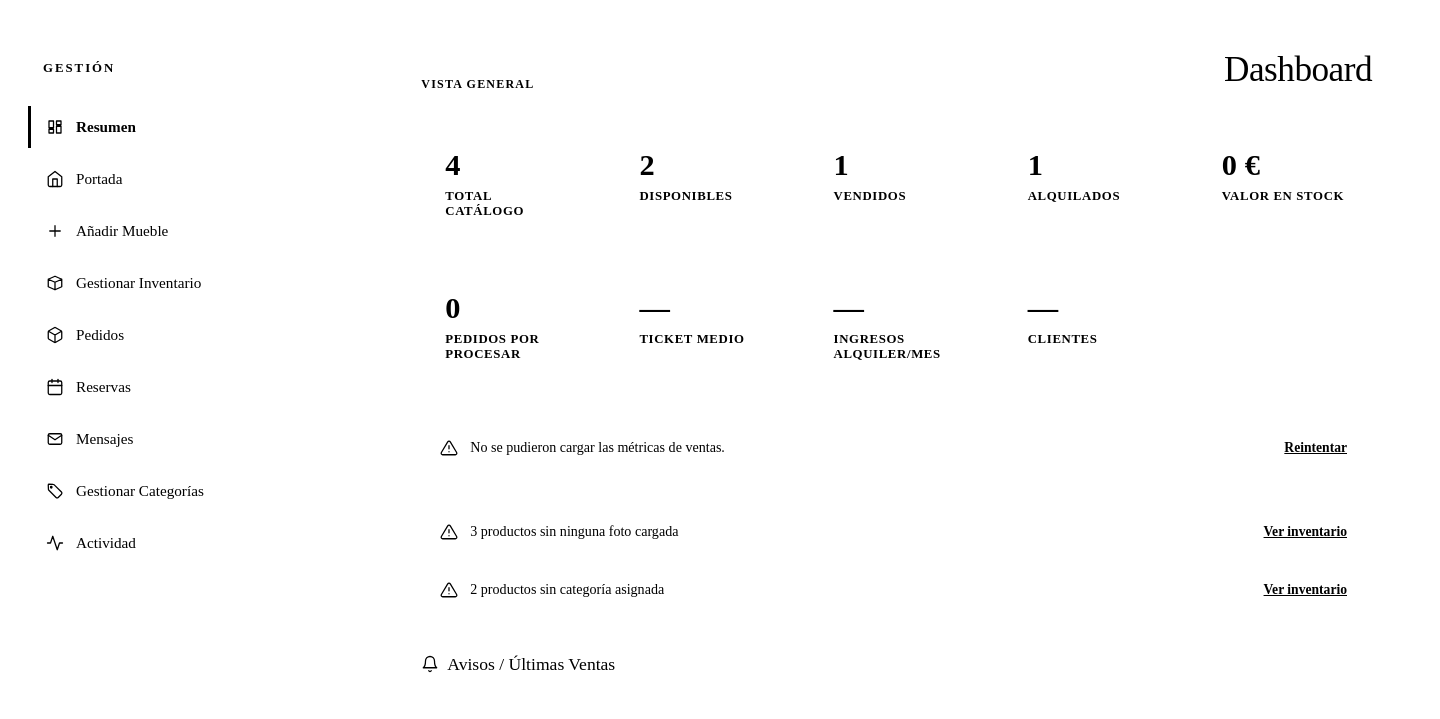
Mensajes con piezas — botones › con las reservas encendidas, «Crear reserva» abre el alta de alquiler con la pieza, el nombre y el email
What coordinates should you click on to do the following:
click the button "Mensajes"
I would click on:
 (105, 438)
Its box is left=28, top=418, right=341, bottom=460.
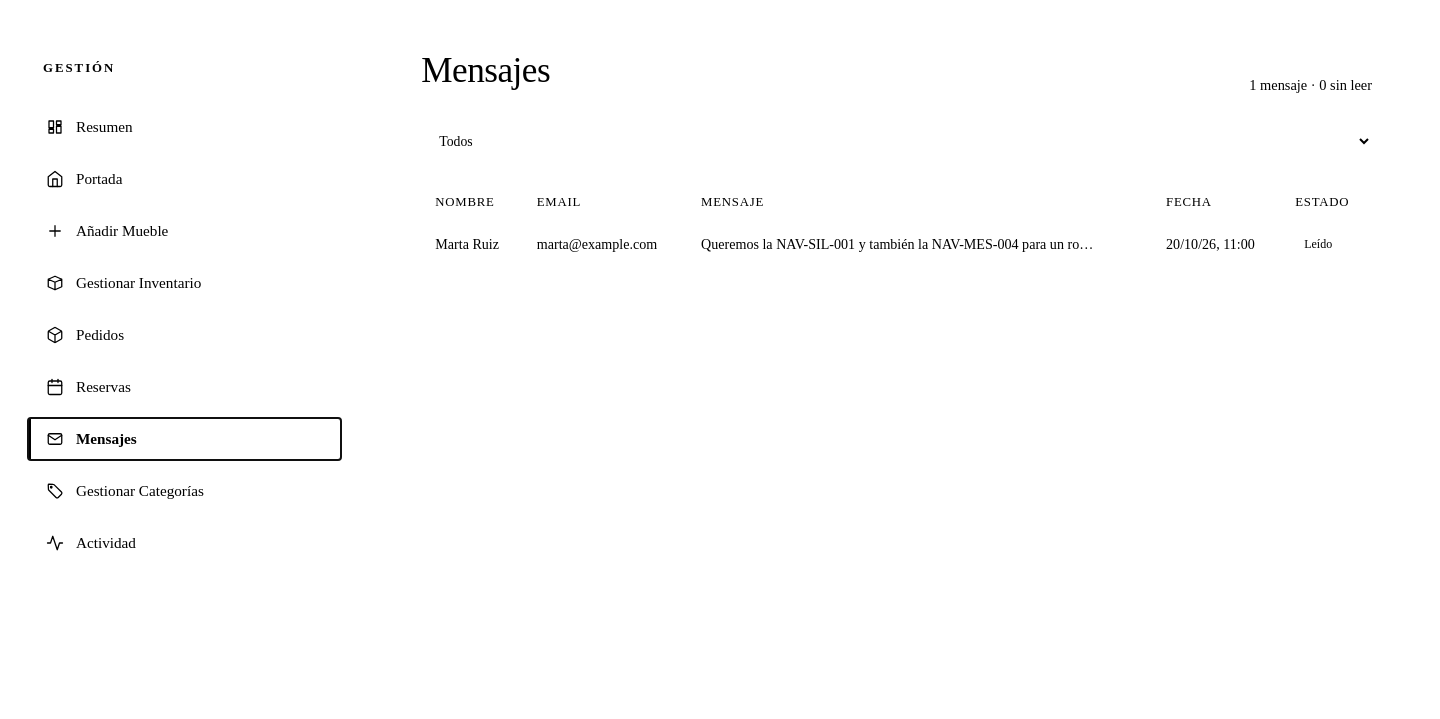
What coordinates should you click on to do the following:
click the button "Marta Ruiz"
I would click on:
 (467, 244)
Its box is left=435, top=236, right=499, bottom=253.
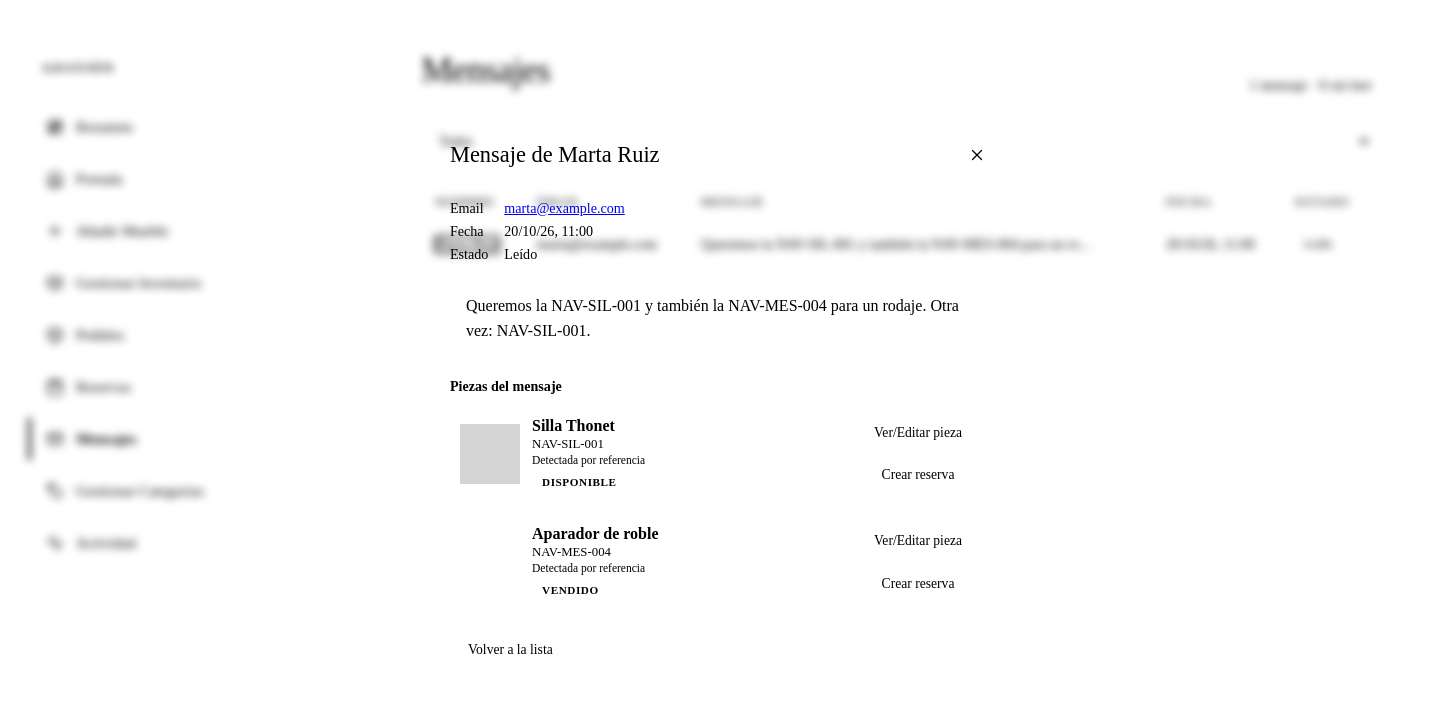
What coordinates should you click on to do the following:
click the button "Crear reserva" below "Aparador de roble"
I would click on:
 (918, 584)
Its box is left=856, top=566, right=980, bottom=602.
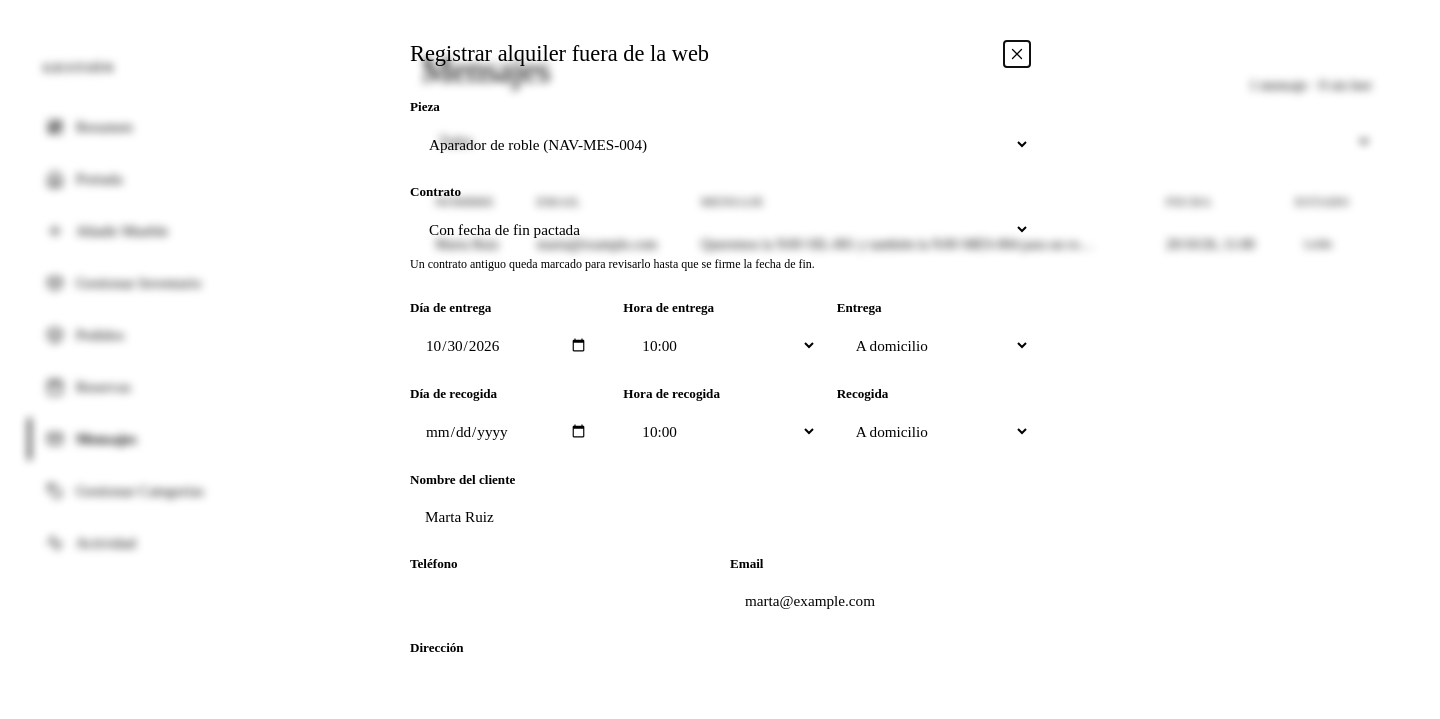
Expected: the dropdown labelled "Pieza" shows "Aparador de roble (NAV-MES-004)", left=410, top=120, right=1030, bottom=168
Expected: the field labelled "Nombre del cliente" holds "Marta Ruiz", left=410, top=494, right=1030, bottom=540
Expected: the field labelled "Email" holds "marta@example.com", left=730, top=578, right=1030, bottom=624
